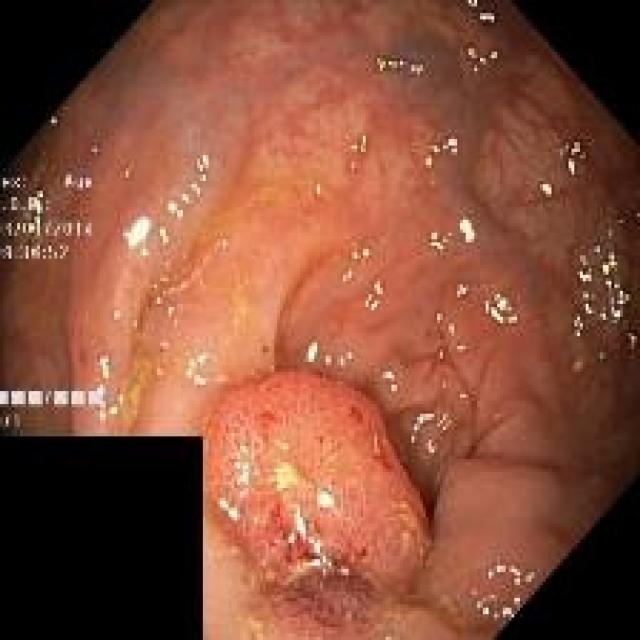Polyps: (205, 373, 430, 628)
